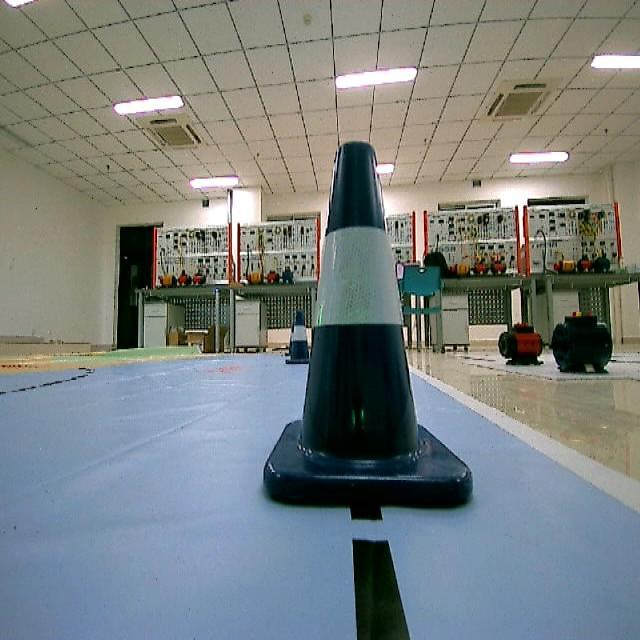obstacle: (250, 127, 476, 526), (282, 300, 316, 374)
